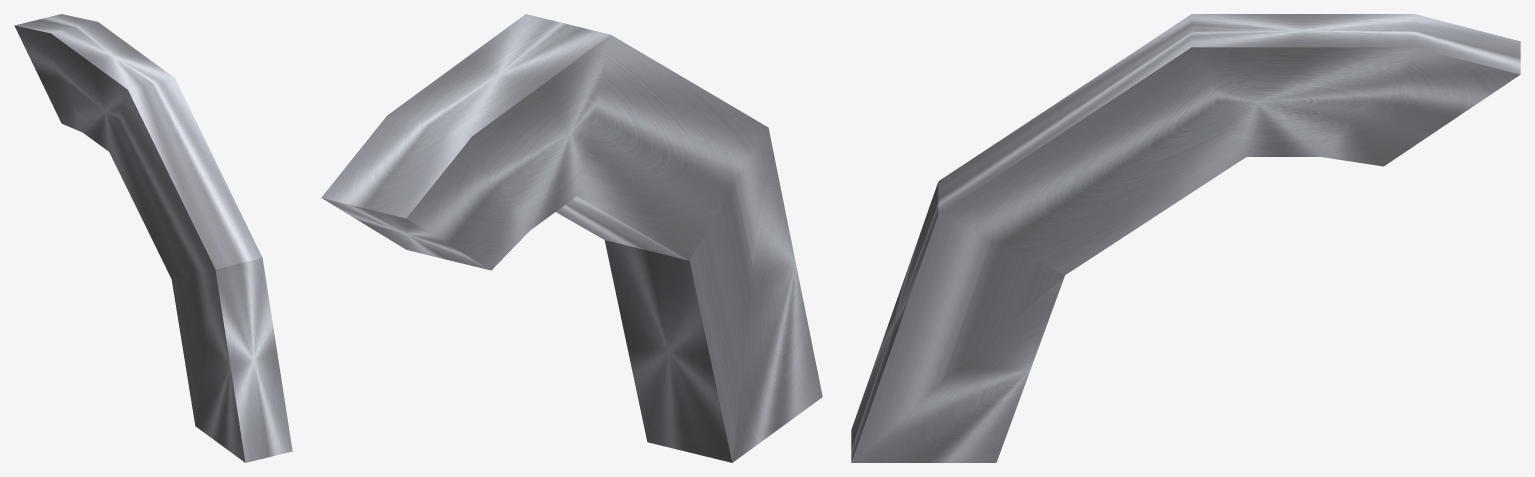
File: ra_left.obj
The picture shows the model from 3 angles, left to right: view 1: azimuth 30°, elevation 25°; view 2: azimuth 150°, elevation 25°; view 3: azimuth 270°, elevation 25°; orthographic projection. The views are drawn at different scales.
Parts seen in each view (by area): view 1: Box02; view 2: Box02; view 3: Box02.
Boxes of the visible parts, box(x1,y1,x2,y2) form: Box02: box(14, 14, 292, 462); Box02: box(321, 14, 822, 462); Box02: box(851, 14, 1520, 462).
Bounding box in the file's own units: 1.85 × 10.73 × 15.66.
Materials: 1 (1 with a texture image).
